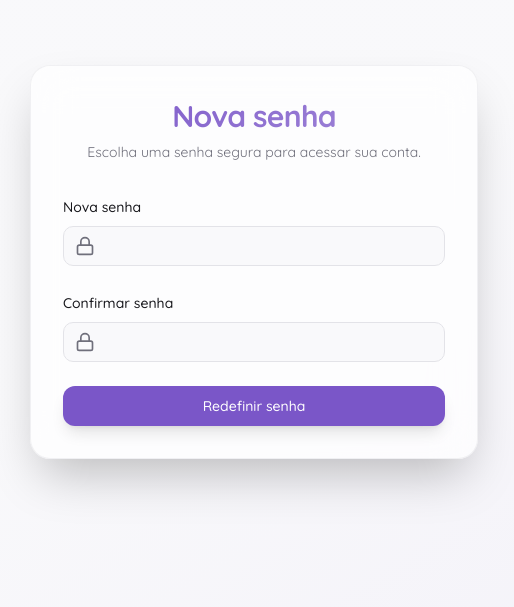
Test: ResetPassword — validação de política e redirect › mostra erro específico quando o token já foi utilizado
Type "Senha@123" into the password field labelled "Nova senha".
click(254, 246); type("Senha@123")  # box [63, 226, 445, 266]
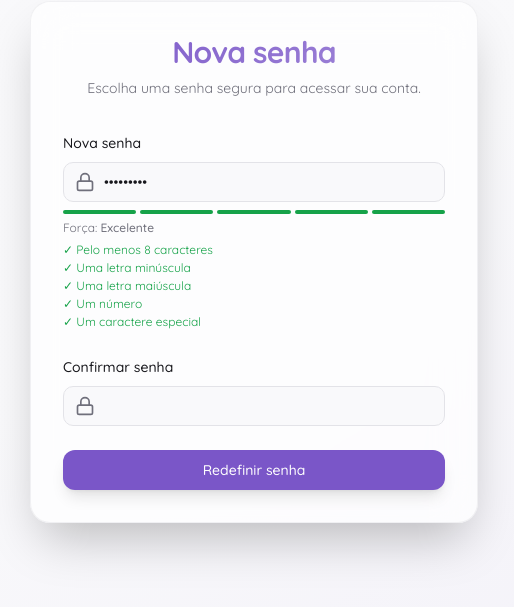
Type "Senha@123" into the password field labelled "Confirmar senha".
click(254, 406); type("Senha@123")  # box [63, 386, 445, 426]
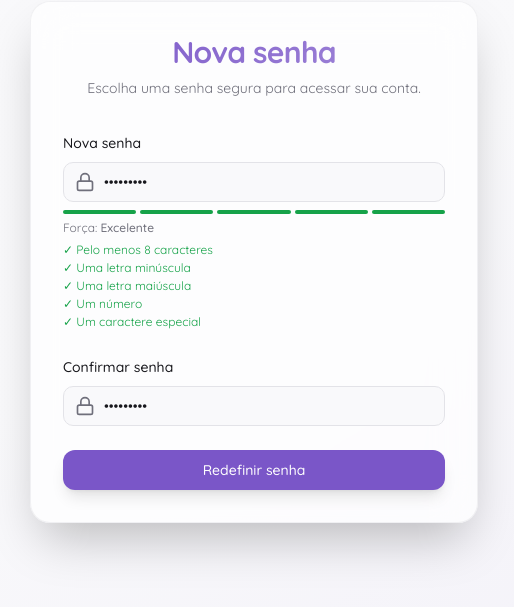
Click the button "Redefinir senha".
click(254, 470)  # box [63, 450, 445, 490]
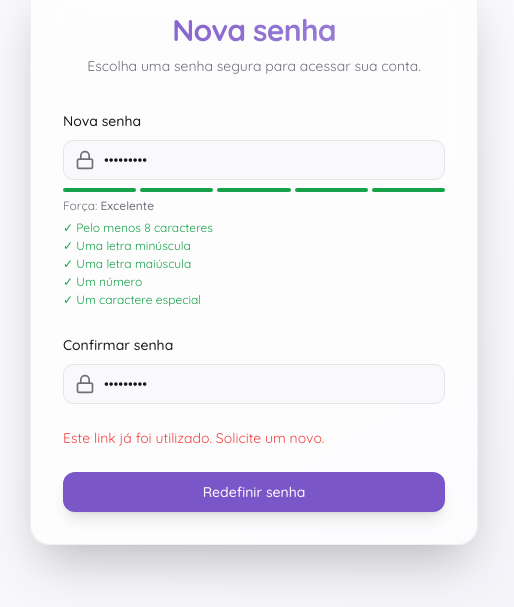
Check: the text "Este link já foi utilizado. Solicite um novo." is shown, box [63, 429, 324, 447]
